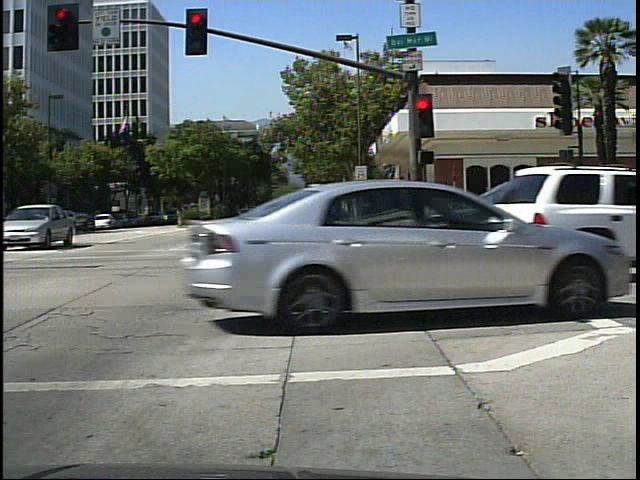person: (290, 203, 304, 221)
